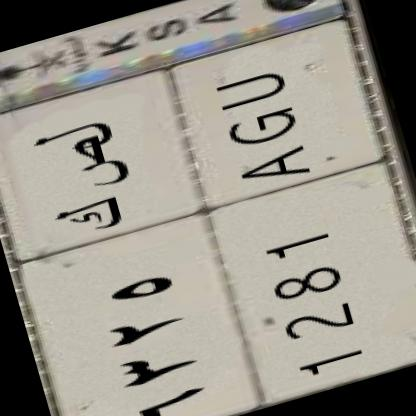english: (154, 15, 416, 411)
